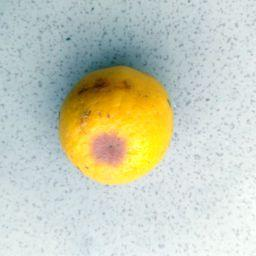Ripe: (59, 67, 174, 183)
